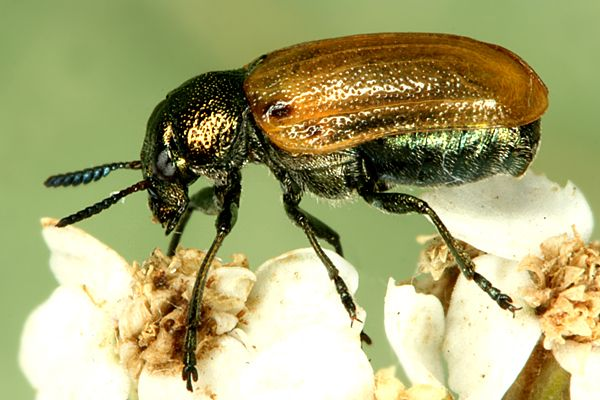Labidostomis_longimana: (36, 27, 561, 398)
